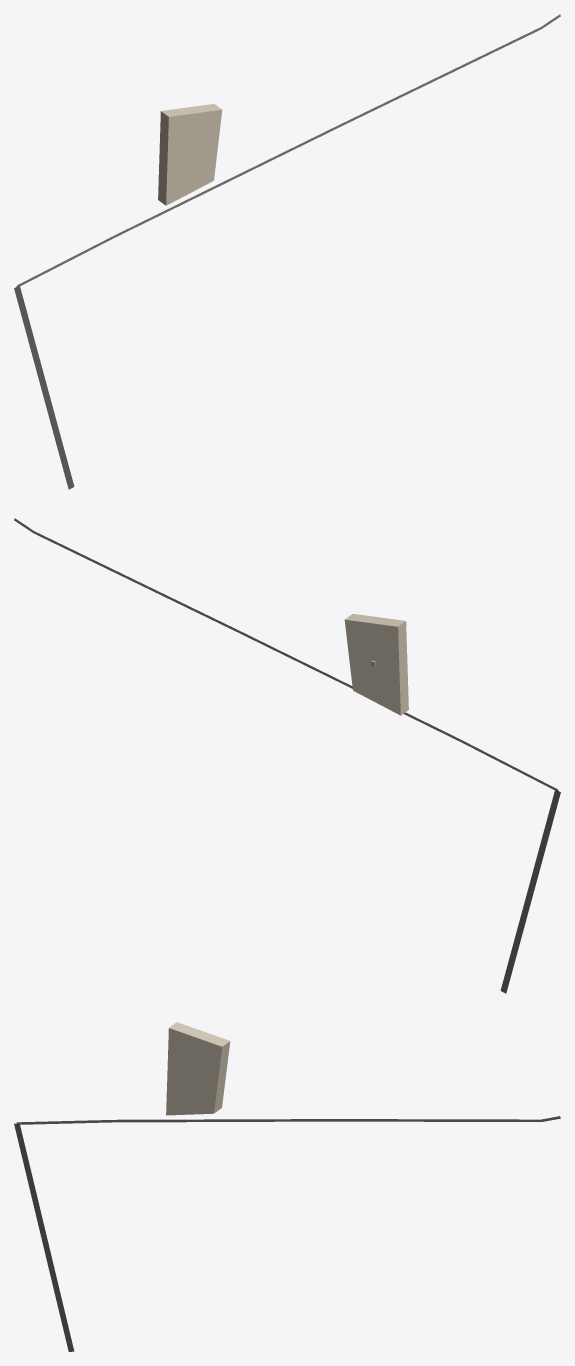
The model's file is historic-palestine-08_18_3504_3121.glb.
3 renders of one model, top to bottom at view 1: azimuth 30°, elevation 25°; view 2: azimuth 150°, elevation 25°; view 3: azimuth 330°, elevation 25°, orthographic.
Parts seen in each view (by area): view 1: Building_, Road .001, Road; view 2: Building_, Road .001, Road; view 3: Building_, Road .001, Road.
Boxes of the visible parts, x1,y1,x2,y2 form: Building_: (158, 104, 222, 205); Road .001: (16, 14, 560, 287); Road: (14, 285, 74, 489); Building_: (344, 614, 408, 715); Road .001: (14, 518, 558, 790); Road: (500, 789, 560, 993); Building_: (166, 1022, 230, 1115); Road .001: (16, 1116, 560, 1124); Road: (14, 1123, 74, 1351).
Size of the model in its own units: 294 by 183 by 8.7.
